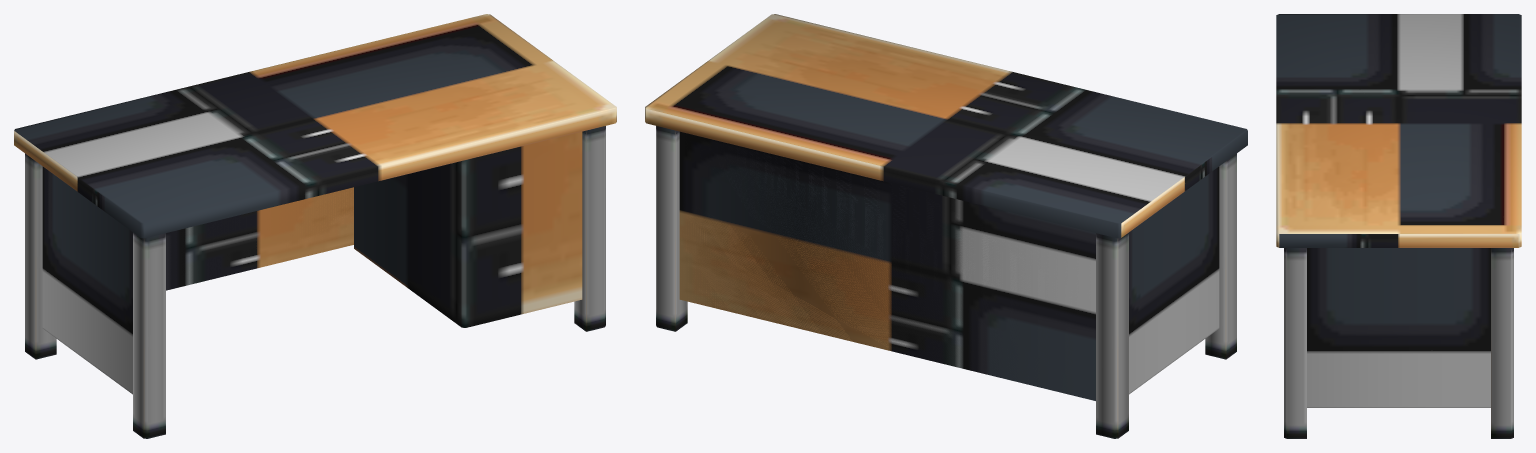
Rendered from int_scx_tableM.dae.
3 renders of one model, left to right at view 1: azimuth 30°, elevation 25°; view 2: azimuth 150°, elevation 25°; view 3: azimuth 270°, elevation 25°, orthographic. The views are drawn at different scales.
Parts seen in each view (by area): view 1: int_scx_tableM; view 2: int_scx_tableM; view 3: int_scx_tableM.
Boxes of the visible parts, x1,y1,x2,y2 form: int_scx_tableM: (14,14,616,438); int_scx_tableM: (645,14,1247,438); int_scx_tableM: (1276,14,1521,438).
Bounding box in the file's own units: 54.4 × 24 × 25.6.
Materials: 1 (1 with a texture image).
